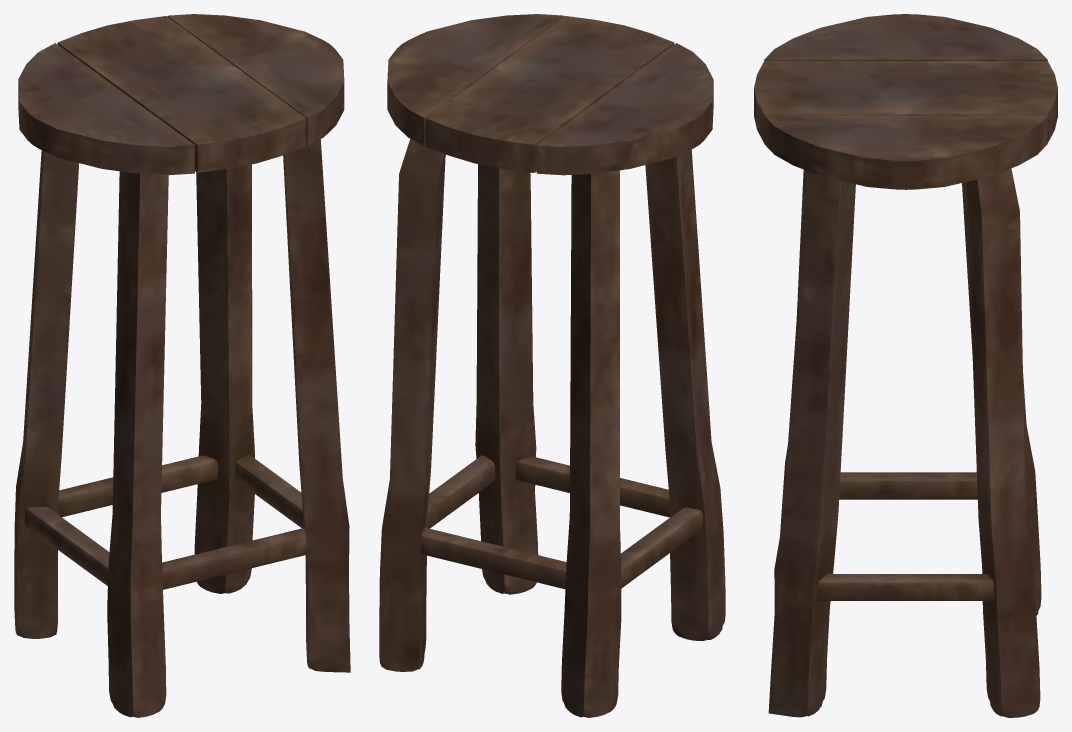
File: SM_high_stool_7e75b1.glb
3 views of the same model, side by side, from view 1: azimuth 30°, elevation 25°; view 2: azimuth 150°, elevation 25°; view 3: azimuth 270°, elevation 25° (orthographic).
Bounding box in the file's own units: 0.4697 × 0.8565 × 0.41.
Materials: 1 (1 with a texture image).
